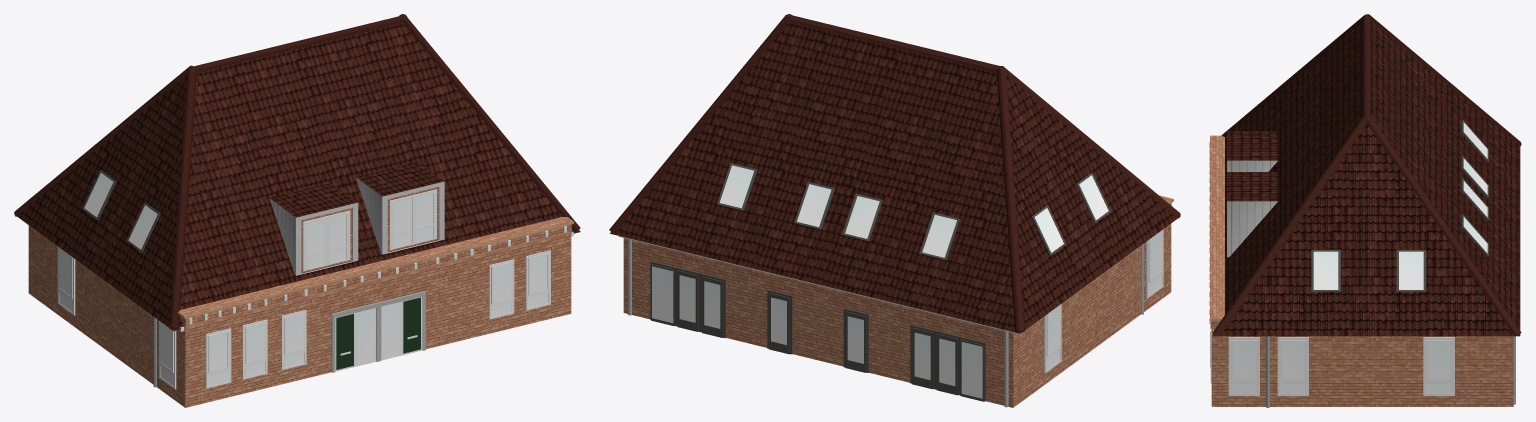
File: It Bynt 3-13 en 19-37 en Swinge 1-1a en it uleboerd 81-83.fbx
The picture shows the model from 3 angles, left to right: view 1: azimuth 30°, elevation 25°; view 2: azimuth 150°, elevation 25°; view 3: azimuth 270°, elevation 25°; orthographic projection. The views are drawn at different scales.
Parts seen in each view (by area): view 1: It_Bynt_3_13_en_19_37_en_Swinge_1_1a_en_it_uleboerd_81_83; view 2: It_Bynt_3_13_en_19_37_en_Swinge_1_1a_en_it_uleboerd_81_83; view 3: It_Bynt_3_13_en_19_37_en_Swinge_1_1a_en_it_uleboerd_81_83.
Part boxes in pixels (x1,y1,x2,y2): It_Bynt_3_13_en_19_37_en_Swinge_1_1a_en_it_uleboerd_81_83: [14, 14, 580, 407]; It_Bynt_3_13_en_19_37_en_Swinge_1_1a_en_it_uleboerd_81_83: [609, 14, 1180, 407]; It_Bynt_3_13_en_19_37_en_Swinge_1_1a_en_it_uleboerd_81_83: [1209, 14, 1521, 407].
Bounding box in the file's own units: 15.83 × 9.61 × 10.8.
1 material, 1 textured.
